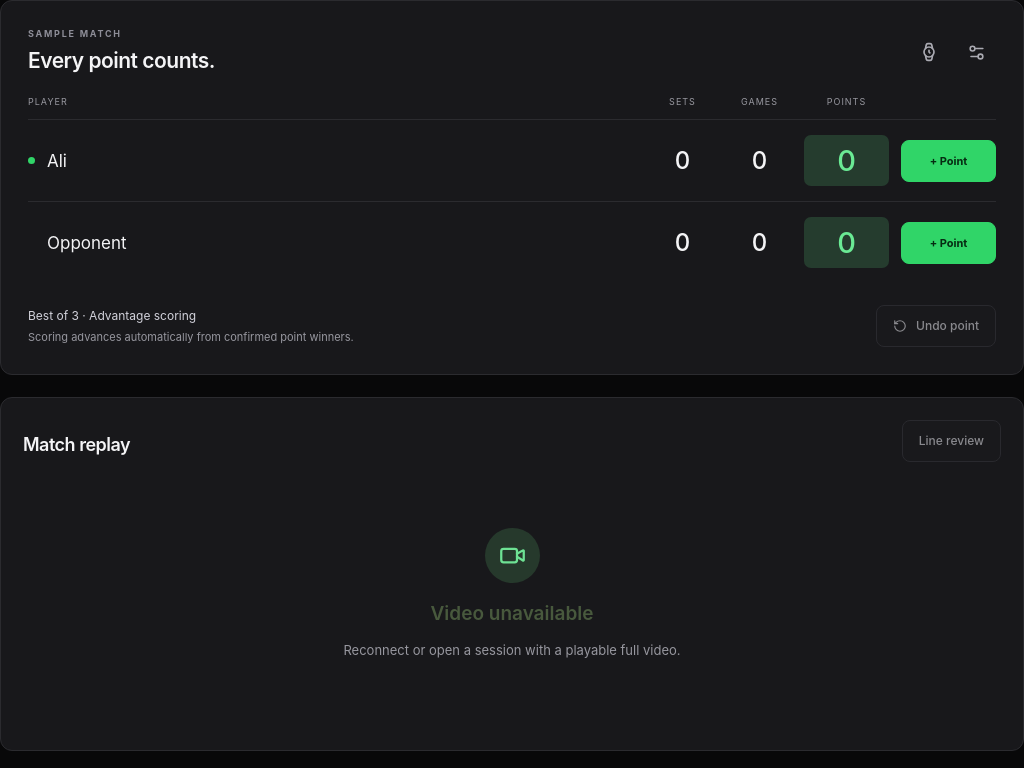
Test: match review › scores, locks configuration, and undoes a confirmed point
Click the button with aria-label "Point to Ali": (948, 161) [901,140,996,182]
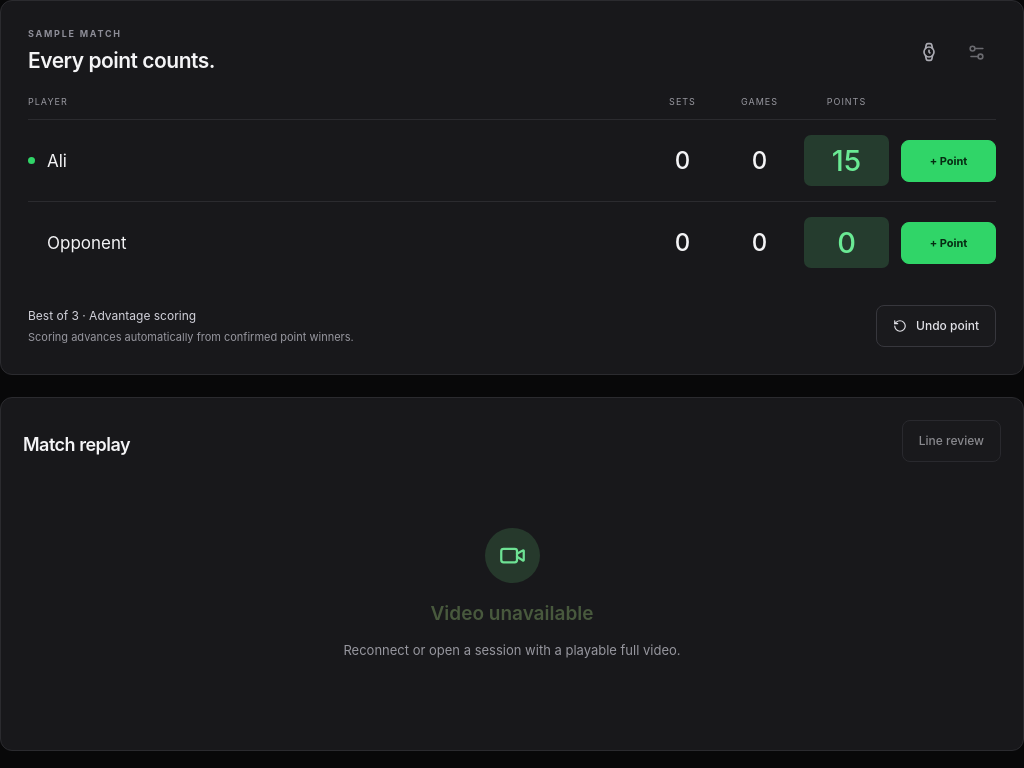
Check: the text "15" is shown, box [804,135,889,186]
Check: the button named "Match settings" is disabled, box [956,32,996,72]
Click the button "Undo point": (936, 326) [876,305,996,347]
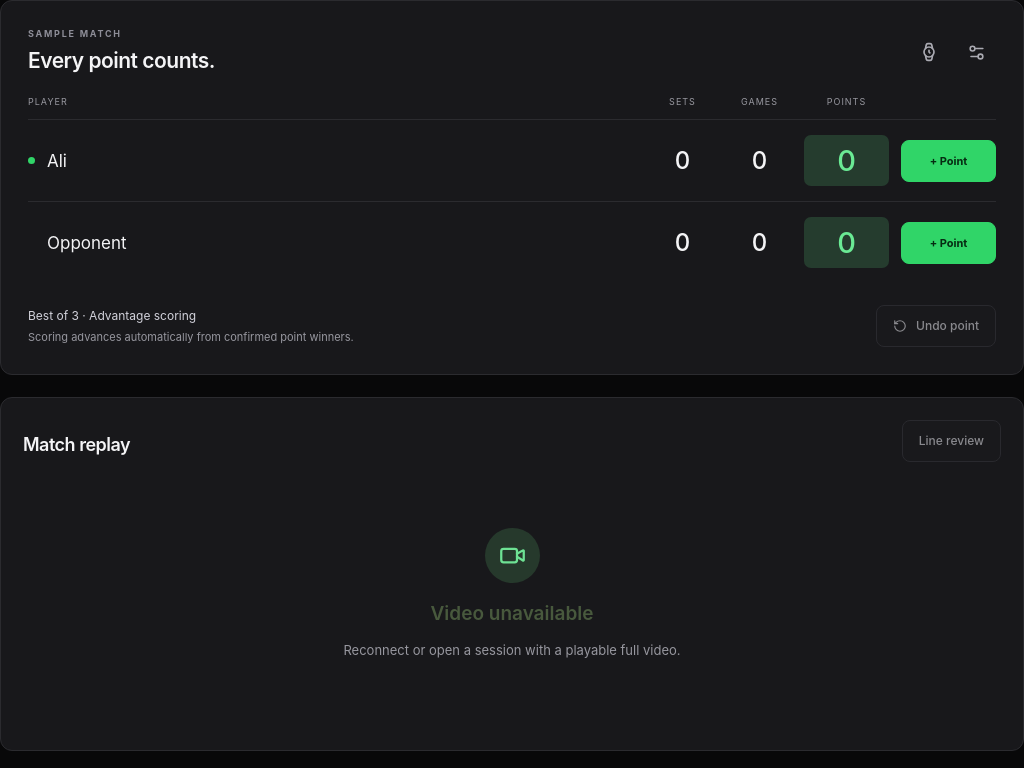
Check: the button "Undo point" is disabled, box [876,305,996,347]
